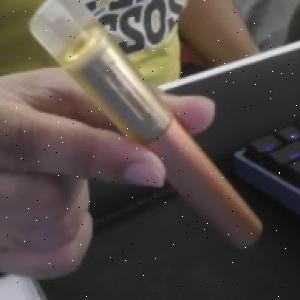Golden-E-Ciggirate: (28, 0, 264, 252)
